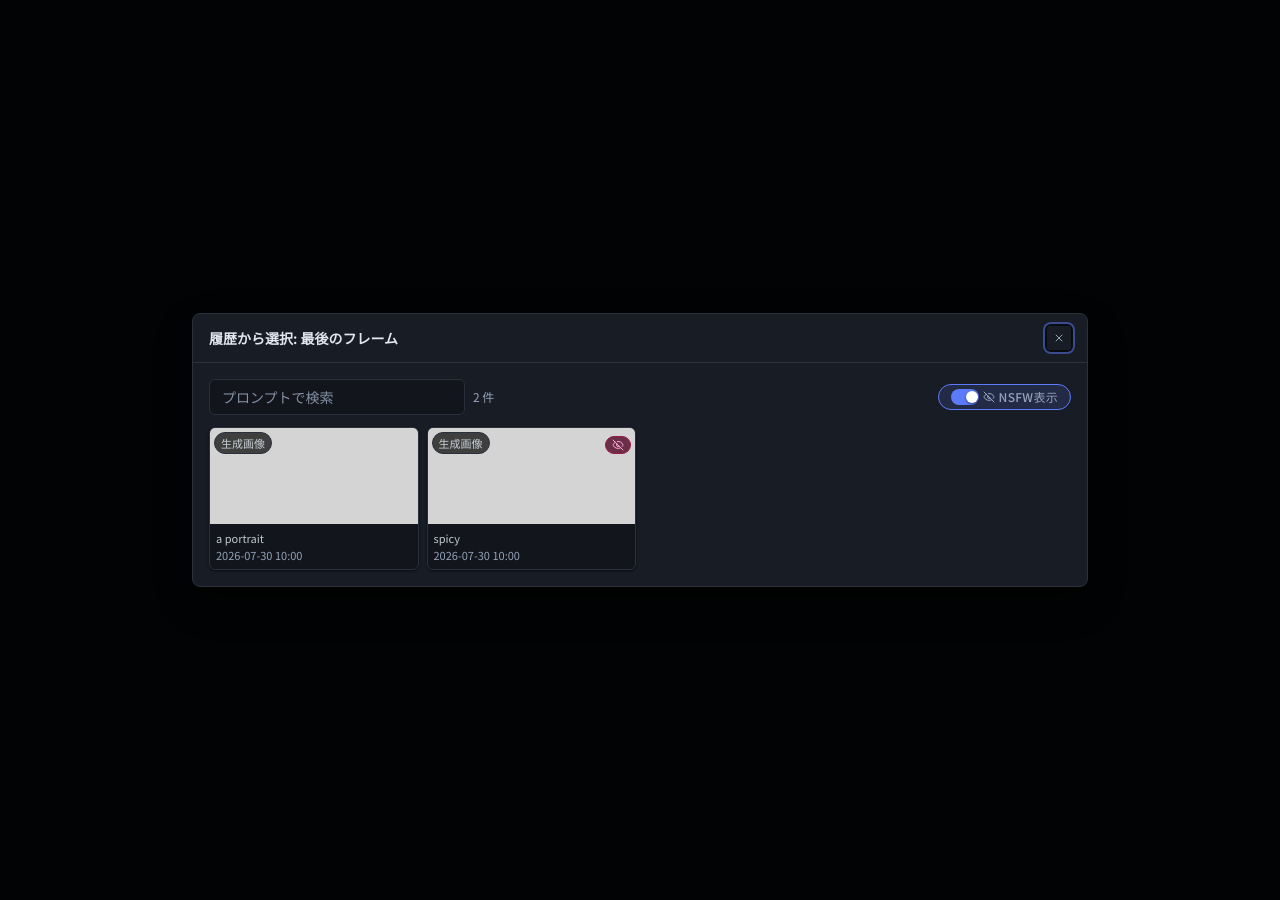
Test: HistoryPickerModal › 検索ボックスでプロンプトから絞り込む
The image size is (1280, 900).
expect the text "2 件" is shown: met, box 473,389 -> 494,405
Type "spicy" into the search field named "履歴を検索".
click(337, 397); type("spicy")  # box 209,379 -> 465,415
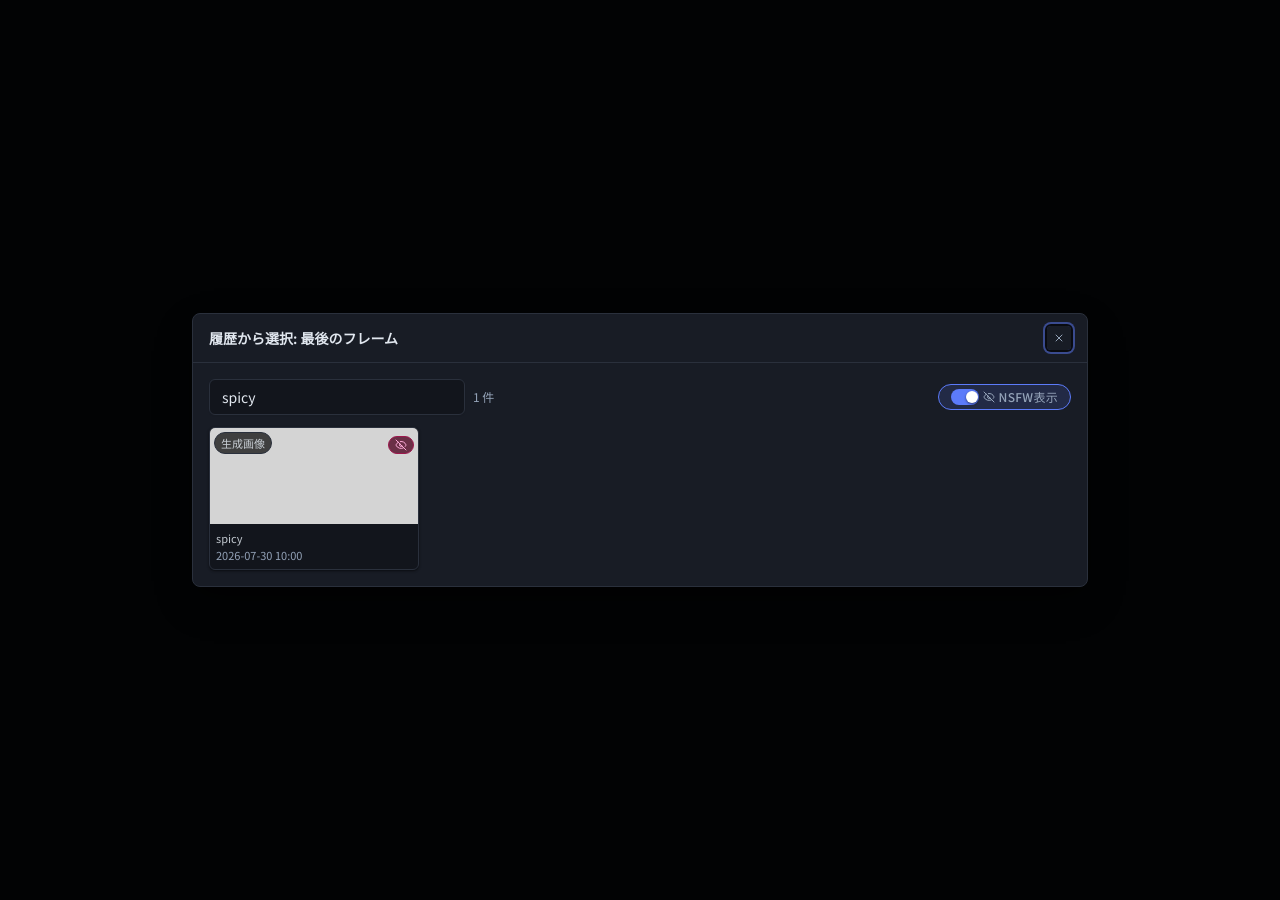
expect the text "1 件" is shown: met, box 473,389 -> 494,405
expect the button titled "a portrait" is gone: met
Replace the text in the search field named "履歴を検索" with "ghost" at (337, 397), box 209,379 -> 465,415
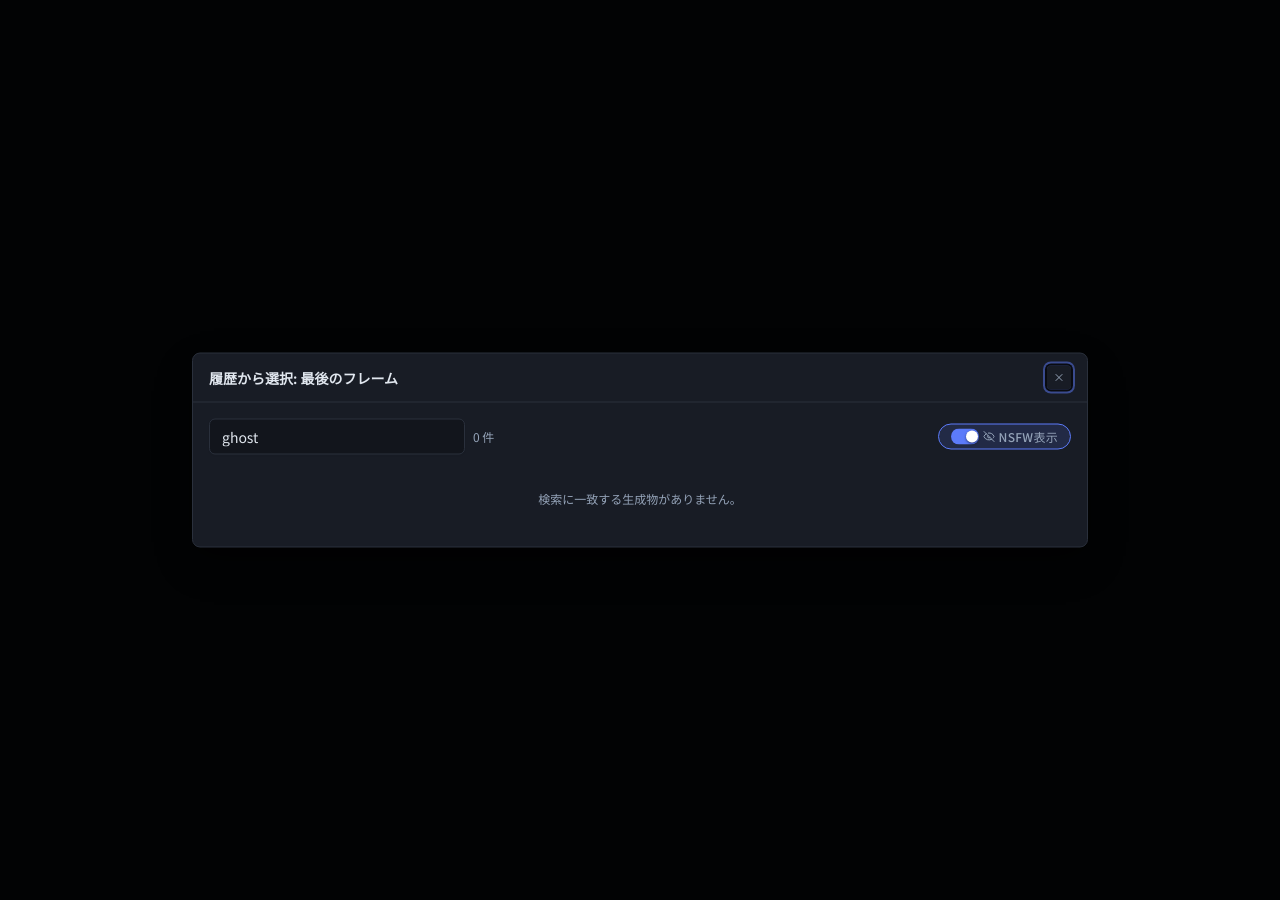
expect the text "検索に一致する生成物がありません。" is shown: met, box 538,490 -> 742,506
